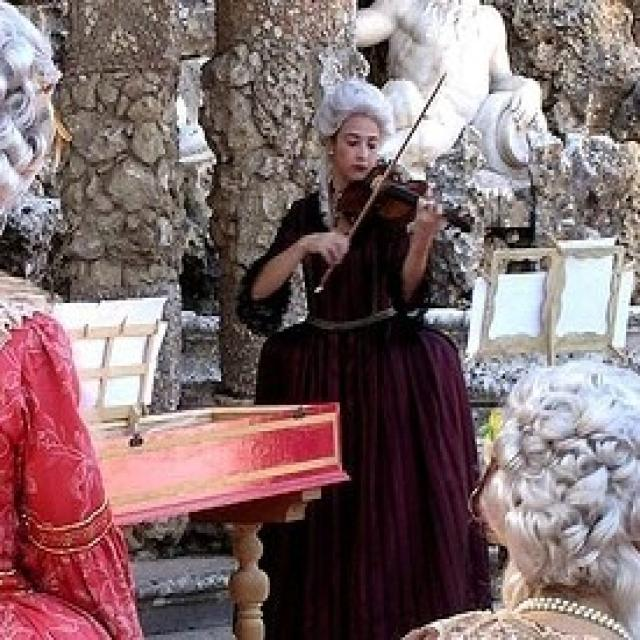violin: (345, 162, 481, 243)
